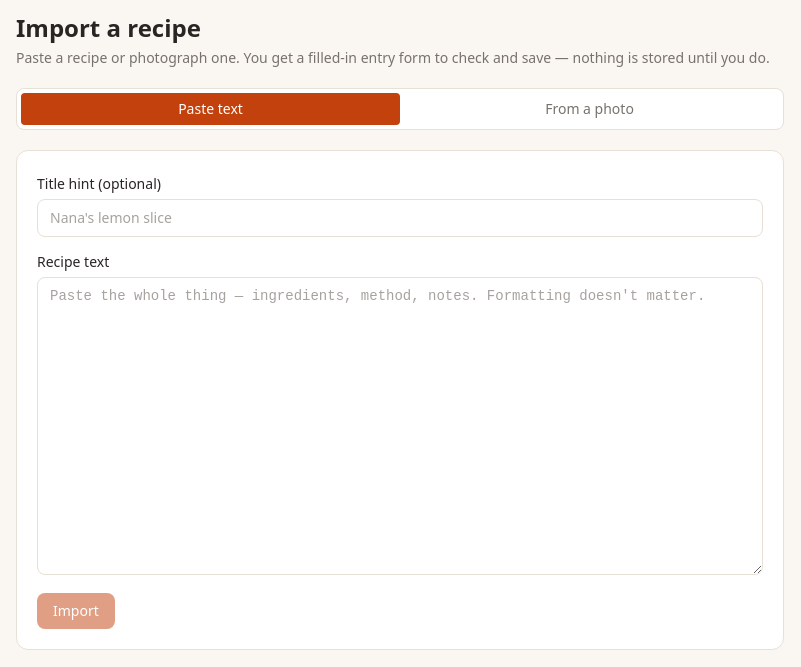
Test case: ImportPage › disables Import until there is text to paste
Check: the button "Import" is disabled, box top-left (37, 593), bottom-right (115, 629)
Replace the text in the text box with placeholder "Paste the whole thing" with "Flour, sugar, eggs." at [400, 426], box top-left (37, 277), bottom-right (763, 575)
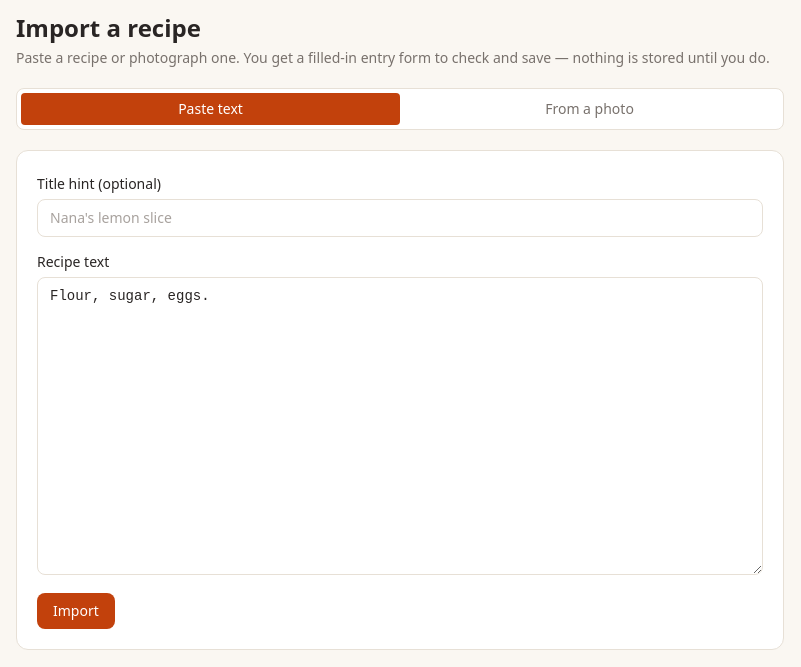
Check: the button "Import" is enabled, box top-left (37, 593), bottom-right (115, 629)
